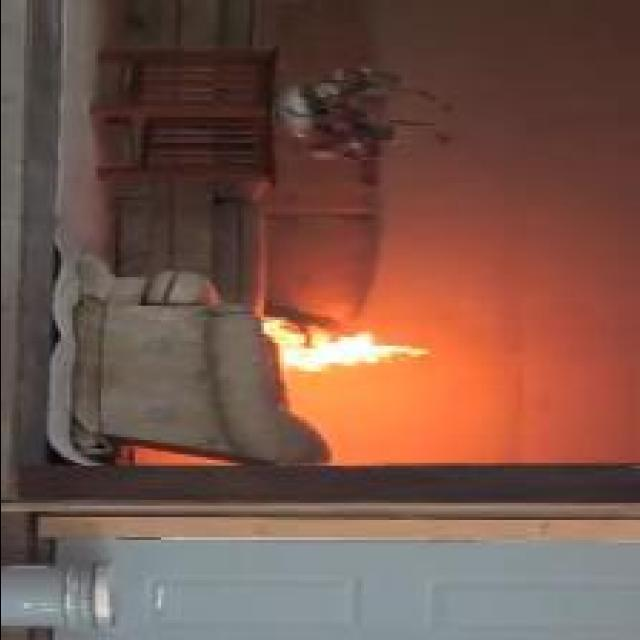Fire: (260, 314, 426, 372)
